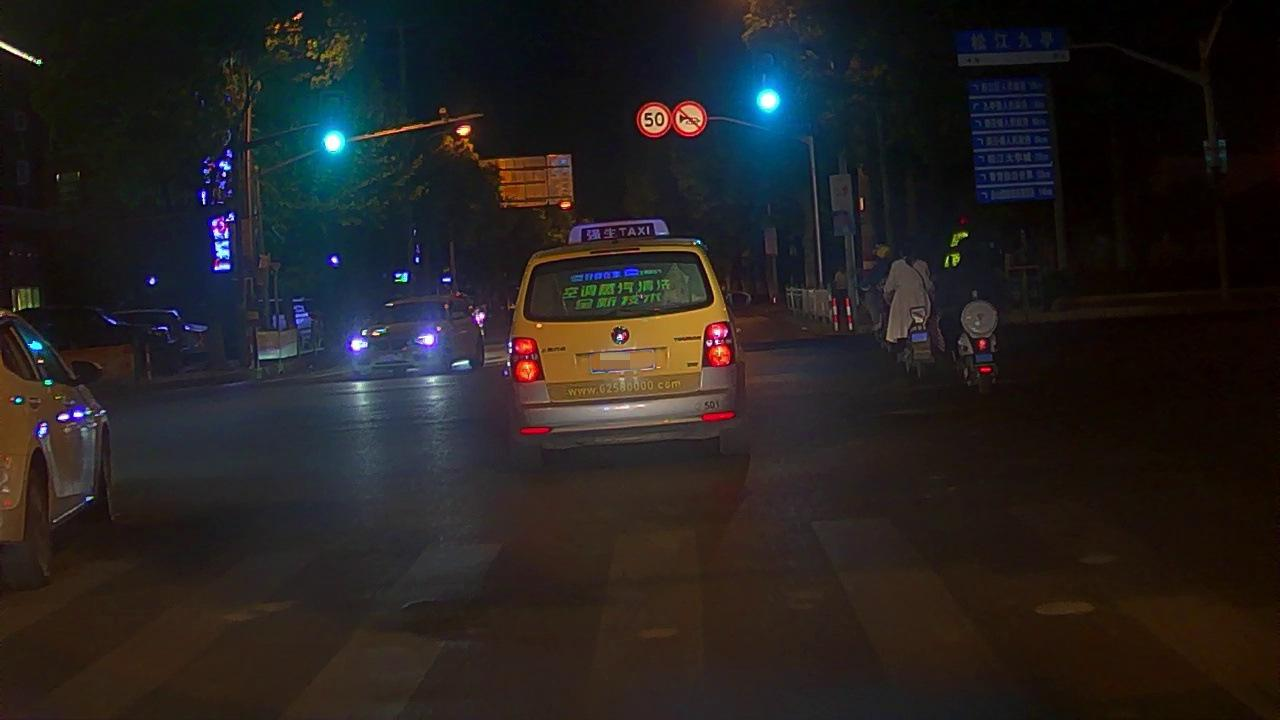traffic_light: (753, 52, 783, 120), (323, 95, 347, 160)
